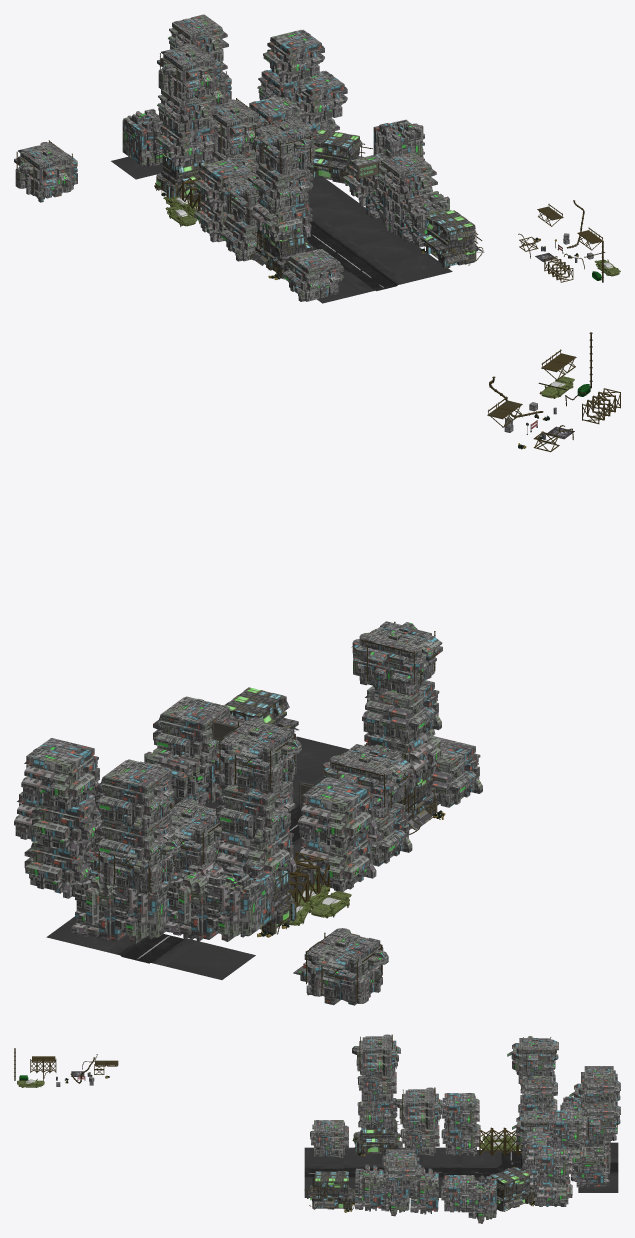
The model's file is AllAssetCity.fbx.
3 views of the same model, one above another, from view 1: azimuth 30°, elevation 25°; view 2: azimuth 150°, elevation 25°; view 3: azimuth 270°, elevation 25° (orthographic). The views are drawn at different scales.
Visible parts, largest first — view 1: Cube.075, Cube.047, Cube.067, Road2.002, Cube.070, Cube.077, Cube.066, Cube.018, Cube.071, Cube.020, Cube.068, Cube.053 (+28 smaller); view 2: Cube.075, Cube.047, Cube.067, Road4.002, Cube.063, Cube.053, Cube.077, Cube.072, Cube.068, Cube.042, Cube.071, Cube.060 (+20 smaller); view 3: Cube.047, Cube.067, Cube.060, Cube.070, Cube.020, Cube.077, Cube.071, Cube.063, Cube.072, Cube.066, Road1.001, Cube.027 (+24 smaller).
Part boxes in pixels (x1,y1,x2,y2): Cube.075: [14, 140, 77, 202]; Cube.047: [157, 41, 220, 101]; Cube.067: [250, 118, 319, 174]; Road2.002: [317, 254, 452, 303]; Cube.070: [420, 210, 484, 268]; Cube.077: [263, 29, 324, 82]; Cube.066: [282, 249, 343, 301]; Cube.018: [212, 98, 264, 157]; Cube.071: [377, 152, 437, 203]; Cube.020: [307, 129, 372, 185]; Cube.068: [251, 163, 313, 210]; Cube.053: [122, 109, 163, 166]; Cube.075: [293, 928, 388, 1005]; Cube.047: [206, 717, 301, 793]; Cube.067: [351, 621, 442, 695]; Road4.002: [46, 916, 255, 979]; Cube.063: [297, 776, 377, 848]; Cube.053: [207, 862, 274, 941]; Cube.077: [21, 738, 99, 809]; Cube.072: [95, 759, 174, 832]; Cube.068: [362, 680, 441, 743]; Cube.042: [216, 781, 295, 845]; Cube.071: [153, 696, 230, 765]; Cube.060: [322, 744, 413, 817]; Cube.047: [507, 1036, 558, 1079]; Cube.067: [352, 1034, 400, 1077]; Cube.060: [395, 1087, 443, 1130]; Cube.070: [304, 1171, 355, 1212]; Cube.020: [489, 1167, 534, 1211]; Cube.077: [547, 1110, 586, 1148]; Cube.071: [382, 1149, 421, 1187]; Cube.063: [440, 1093, 479, 1131]; Cube.072: [581, 1066, 619, 1103]; Cube.066: [310, 1120, 348, 1157]; Road1.001: [462, 1150, 536, 1198]; Cube.027: [534, 1145, 572, 1183].
Size of what is drawn, in the model's own units: 13535 by 7115 by 27364.
